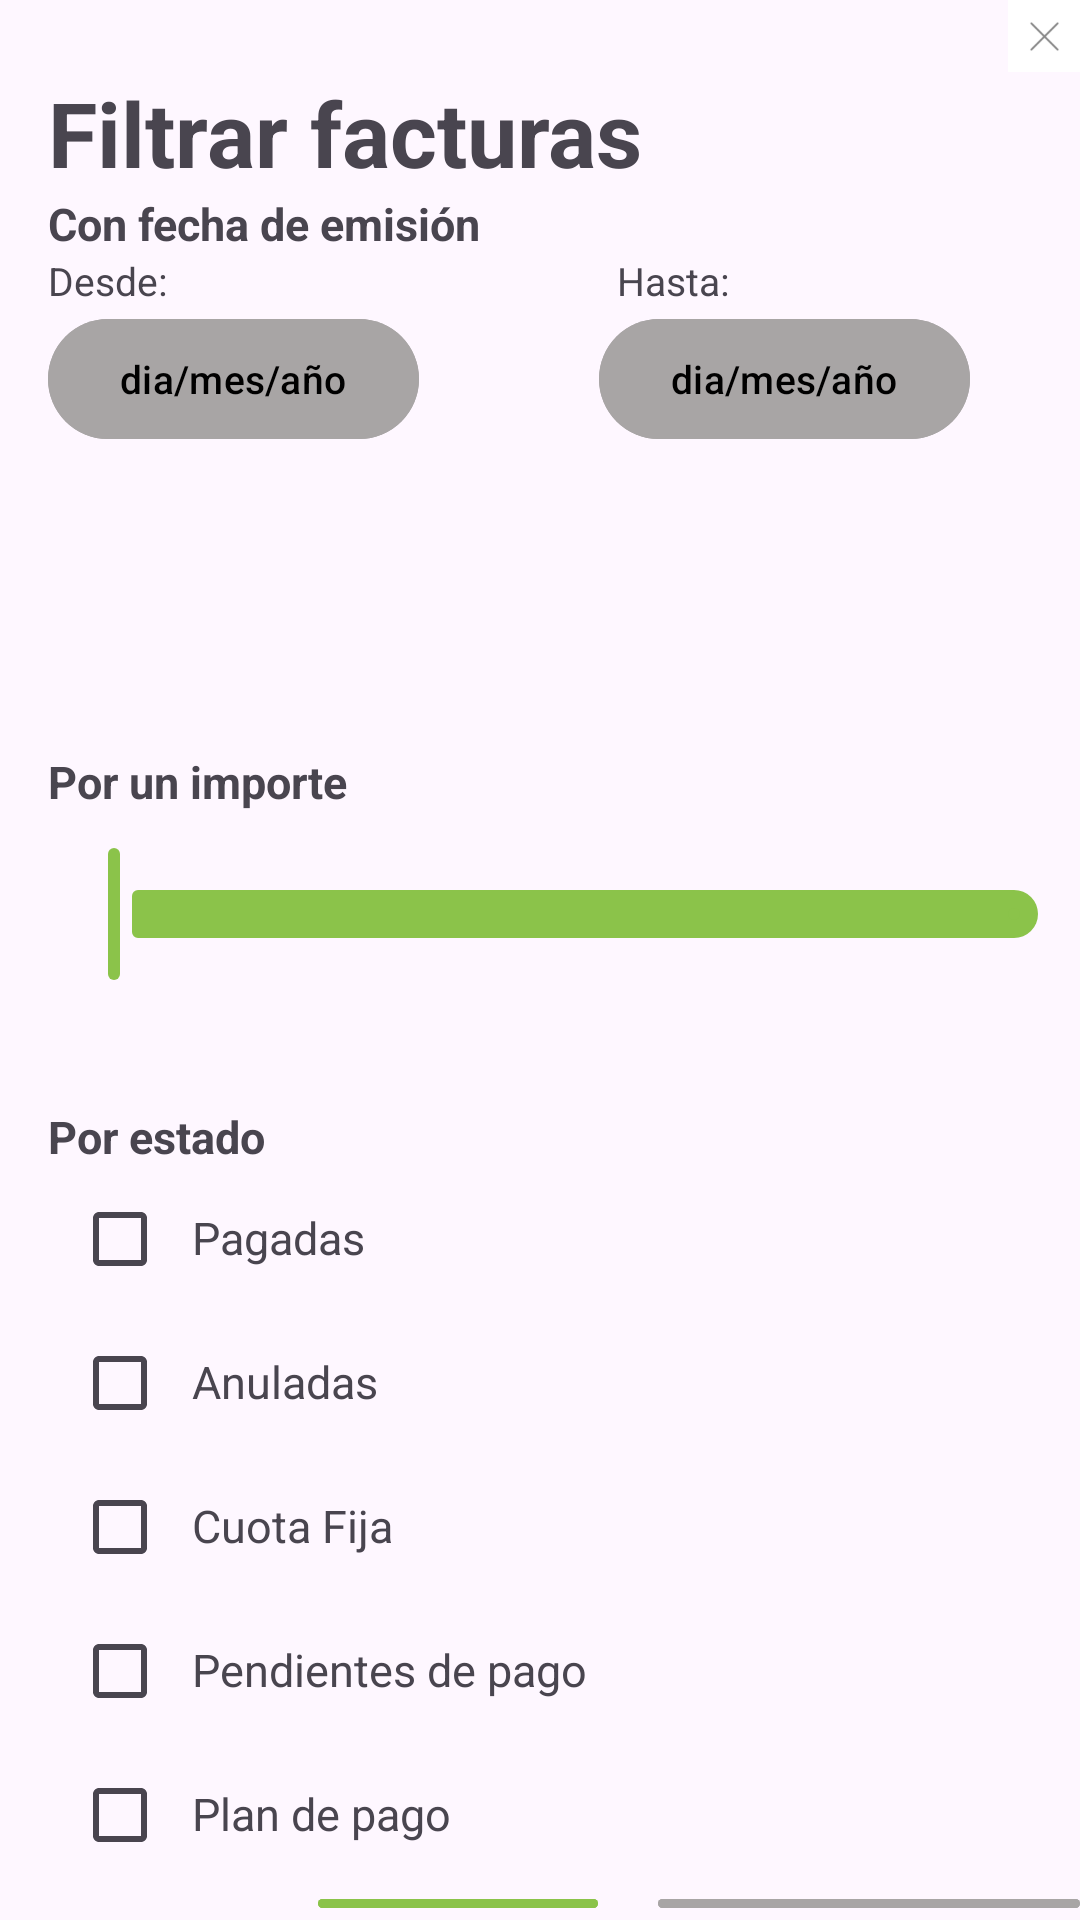

Where to tap for icons on this 1080w x 1920h app screen, as (x=x, y=y):
close: (x=1044, y=36)
